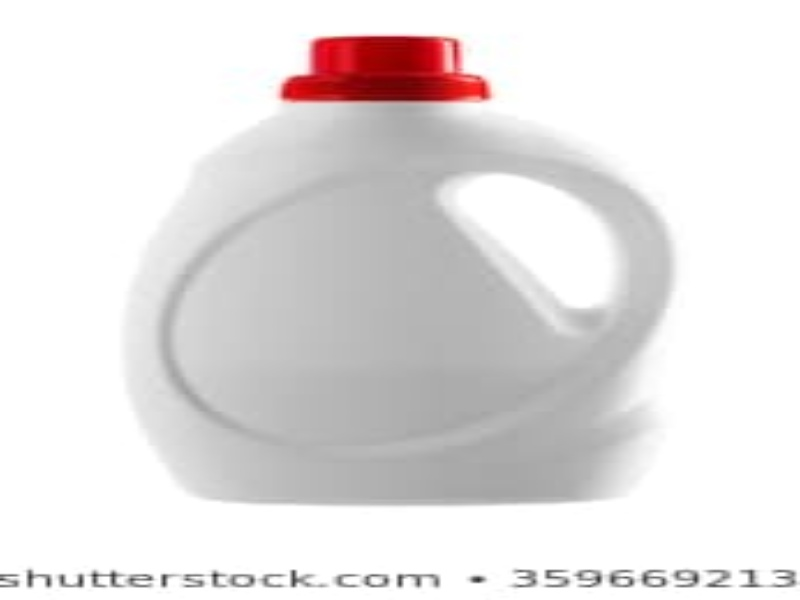detergent-bottle: (114, 29, 704, 512)
